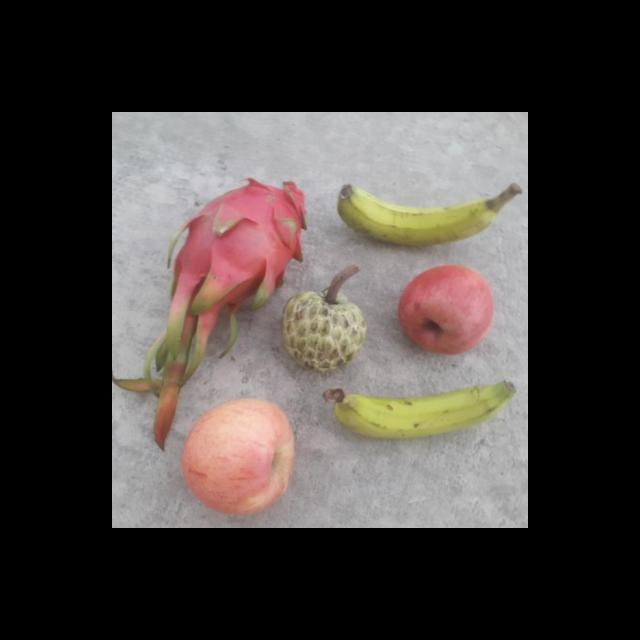Sakya fruit: (279, 277, 371, 373)
apple: (180, 398, 303, 520), (397, 264, 501, 364)
banana: (334, 181, 520, 251), (326, 380, 518, 439)
pitaya: (170, 171, 314, 316)
